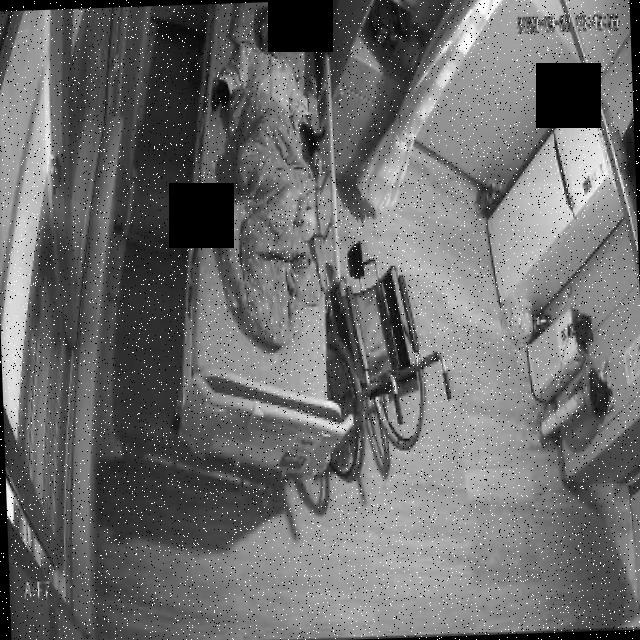bed: (167, 2, 344, 480)
lie: (208, 3, 326, 352)
patient: (208, 5, 318, 158)
